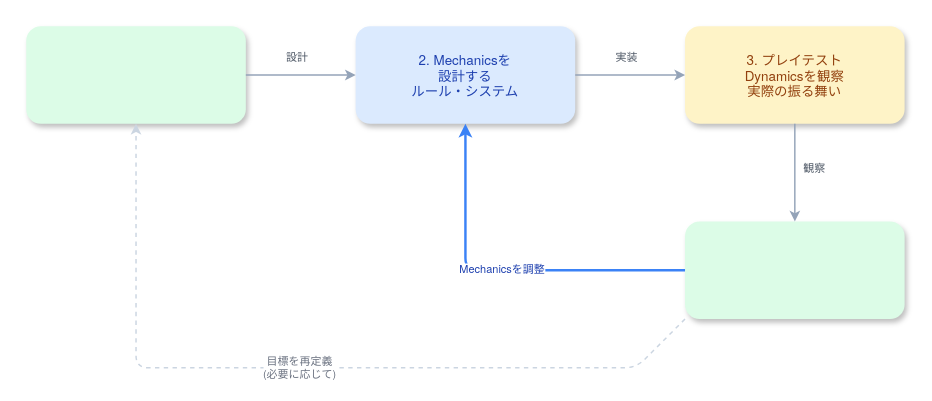
The diagram is 932 pixels wide and 401 high, and some of its shapes have lost their labels. The shapes that lost their labels are listed below. From the top down, each one's centre as x and y in pixels, then its label:
(137,76): 1. 目標を定める どのAestheticsを 実現したいか?
(795,271): 4. 評価する 目標のAestheticsは 達成されたか?
